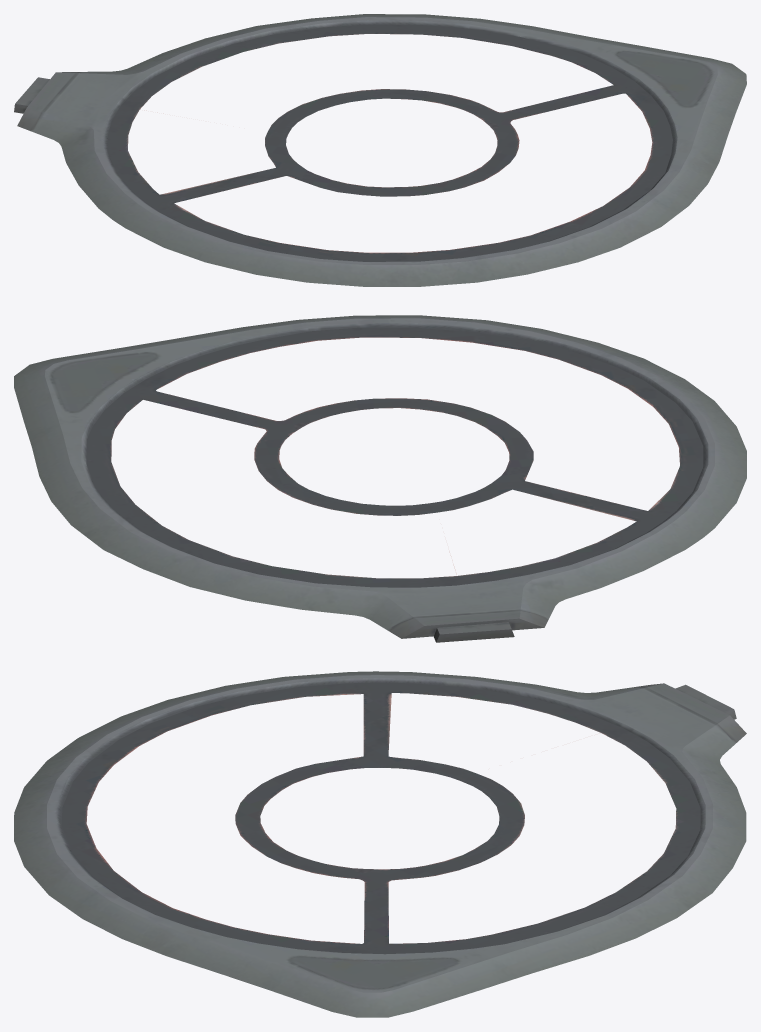
Rendered from pref_sm_city_bornbus07_snow_lv3.fbx.
The picture shows the model from 3 angles, top to bottom: view 1: azimuth 30°, elevation 25°; view 2: azimuth 150°, elevation 25°; view 3: azimuth 270°, elevation 25°; orthographic projection. The views are drawn at different scales.
Visible parts, largest first — view 1: pref_sm_city_bornbus07_snow_lv3; view 2: pref_sm_city_bornbus07_snow_lv3; view 3: pref_sm_city_bornbus07_snow_lv3.
Boxes of the visible parts, x1=… form: pref_sm_city_bornbus07_snow_lv3: x1=14, y1=14, x2=746, y2=286; pref_sm_city_bornbus07_snow_lv3: x1=14, y1=315, x2=746, y2=642; pref_sm_city_bornbus07_snow_lv3: x1=14, y1=671, x2=746, y2=1017.
Size of the model in its own units: 7.87 by 0.12 by 7.04.
